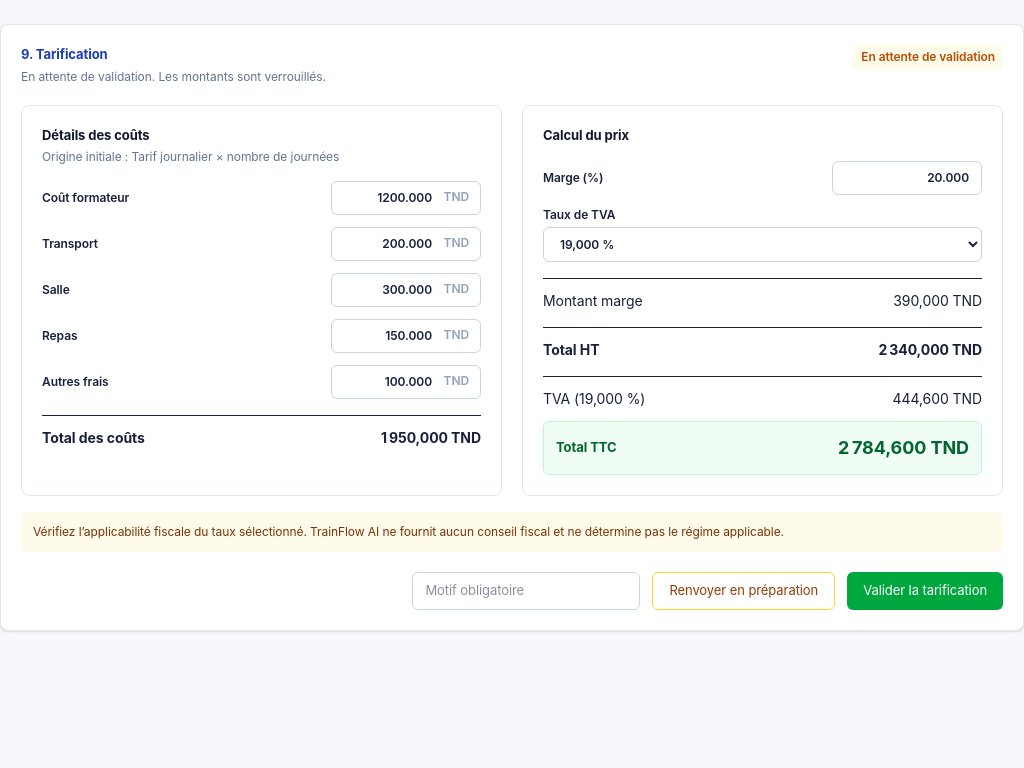
Test case: Tarification › verrouille la soumission, permet le retour puis la validation
Expected: the text "En attente de validation" is shown, top-left (853, 45), bottom-right (1003, 69)
Expected: the field labelled "Coût formateur" is disabled, top-left (331, 181), bottom-right (481, 215)
In the field named "Motif du retour": (526, 591) top-left (412, 572), bottom-right (640, 610), type "Vérifier les frais."
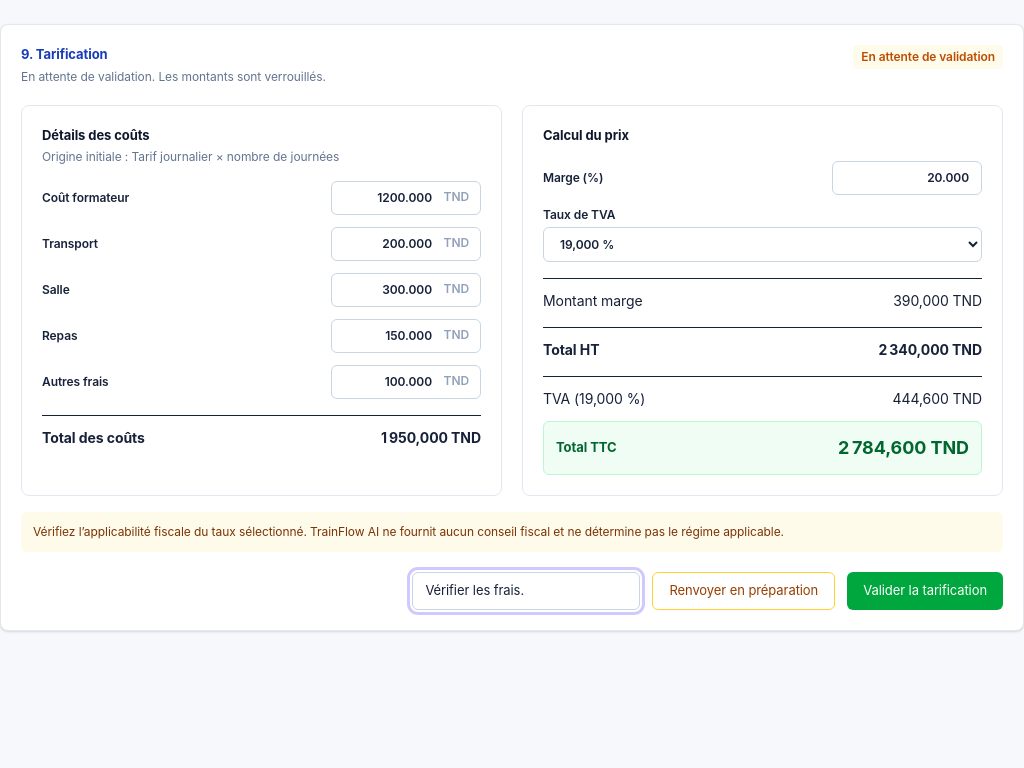
Click the button "Renvoyer en préparation": (744, 591) top-left (652, 572), bottom-right (835, 610)
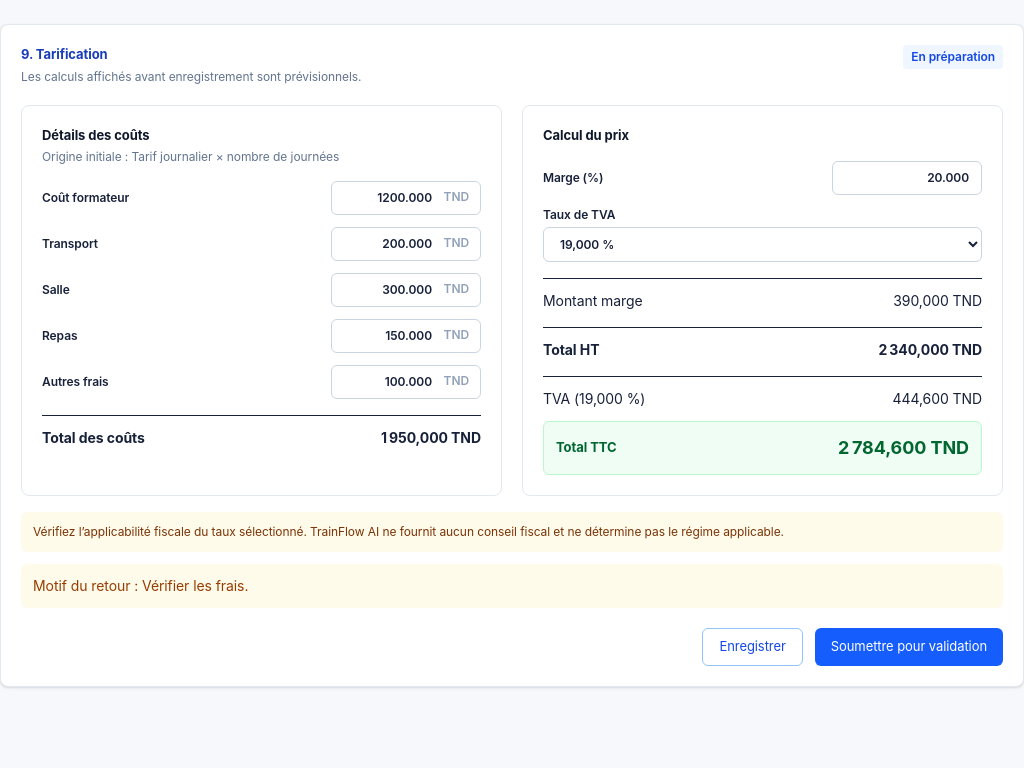
Expected: the text "Motif du retour : Vérifier les frais." is shown, top-left (21, 564), bottom-right (1003, 608)
